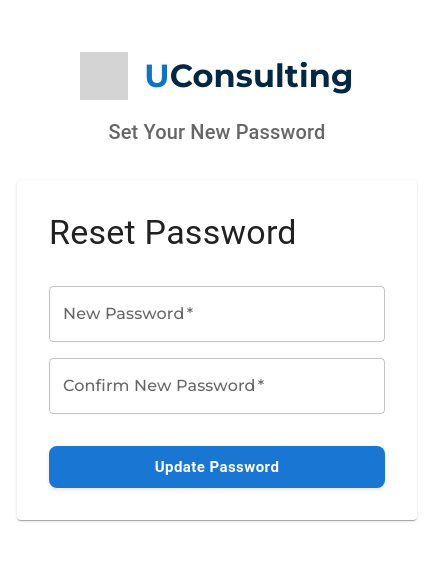
Test: ResetPassword › submits matching passwords and displays success
This screenshot has width=435, height=575.
In the password field labelled "New Password *": coordinates (217, 314) top-left (49, 286), bottom-right (385, 342), type "matchingPass123"
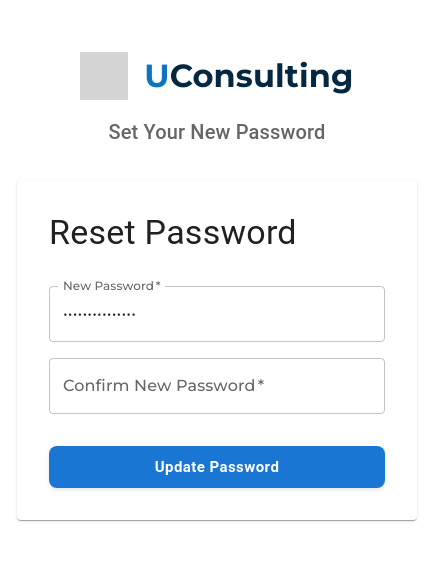
In the password field labelled "Confirm New Password *": coordinates (217, 386) top-left (49, 358), bottom-right (385, 414), type "matchingPass123"
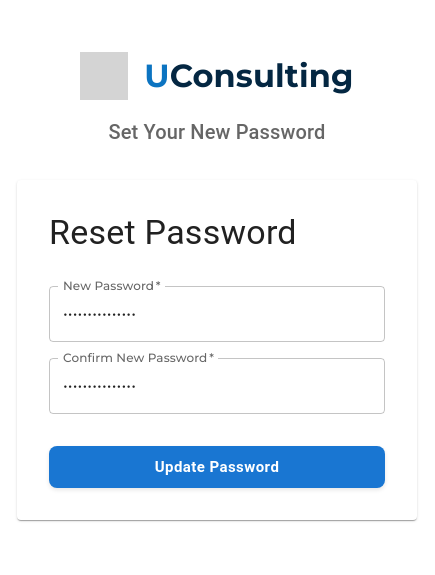
Submit the form with test id "reset-password-form", box top-left (49, 286), bottom-right (385, 488)
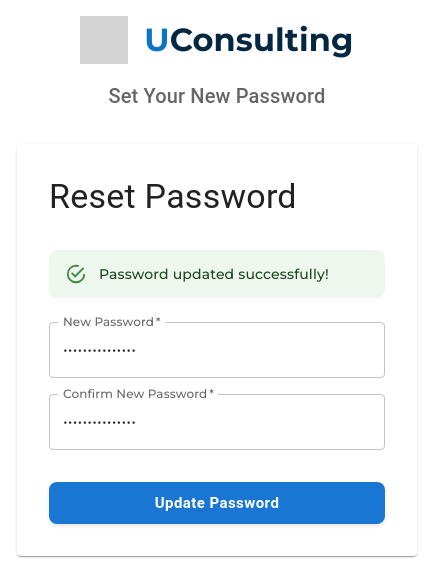
Expected: the text "Password updated successfully!" is shown, top-left (99, 265), bottom-right (329, 283)
